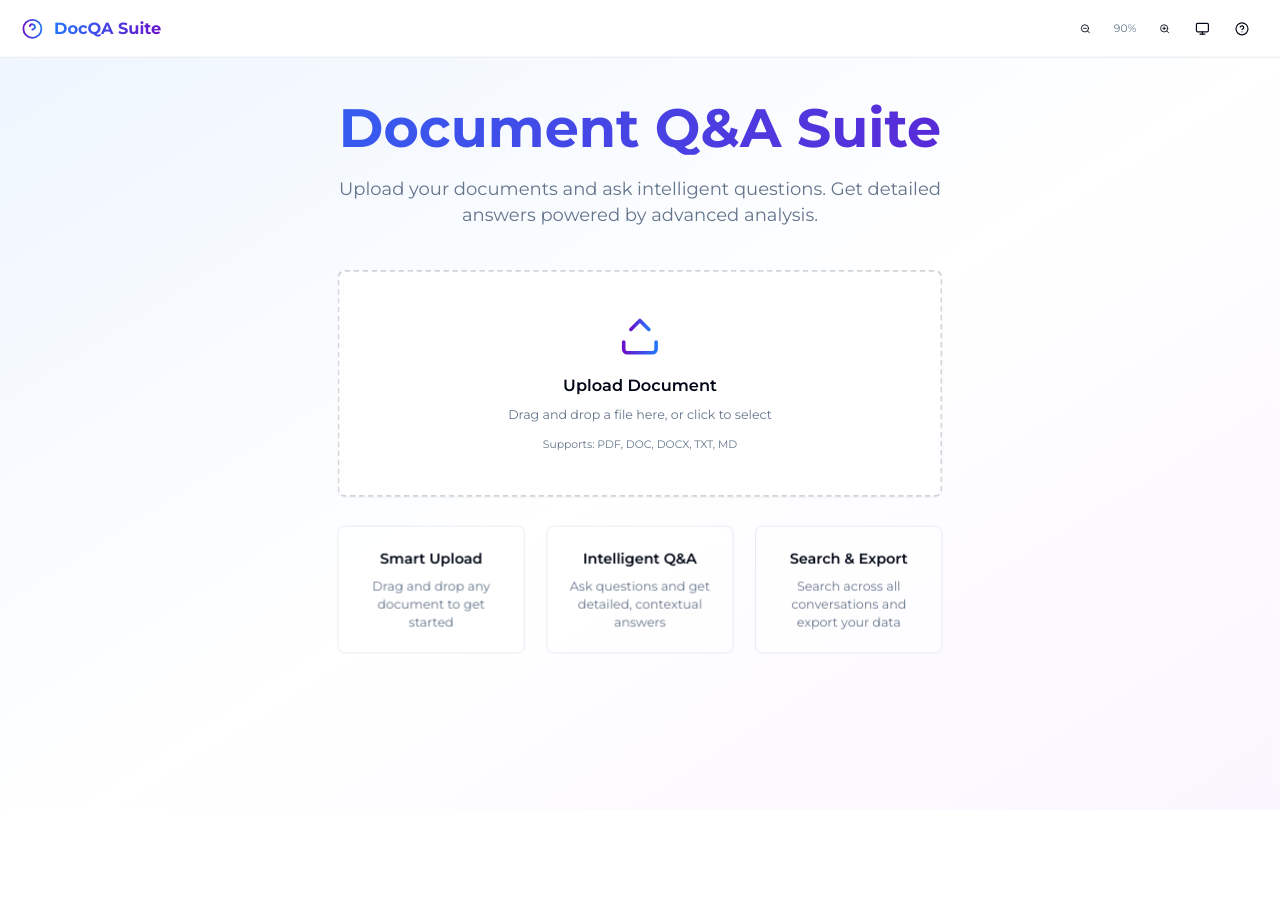
Test: App › shows keyboard shortcuts modal
Find shortcuts button
Click the button titled "keyboard shortcuts": [1242, 28] box [1226, 12, 1258, 44]
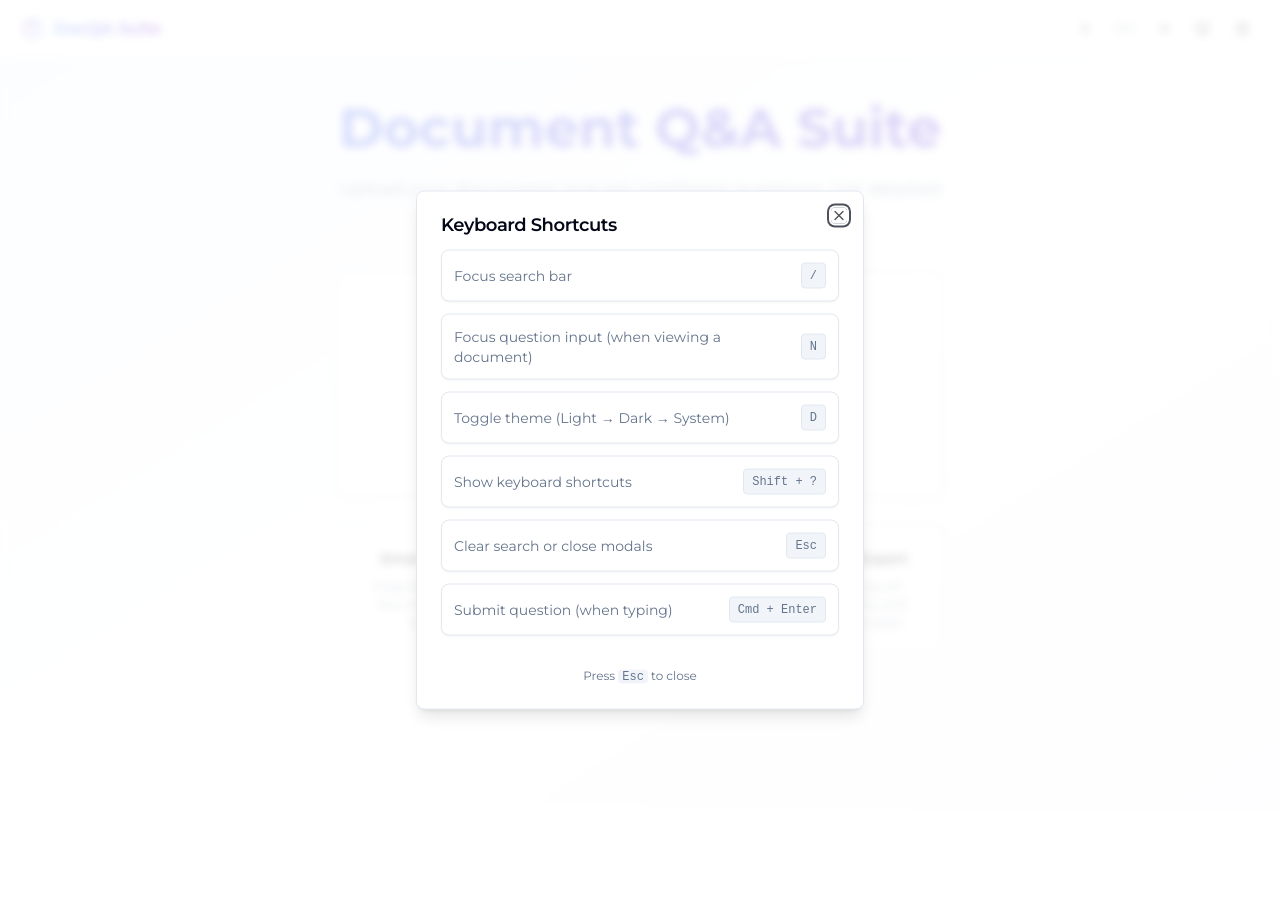
Expected: the heading "Keyboard Shortcuts" is shown, [441, 214, 617, 236]
